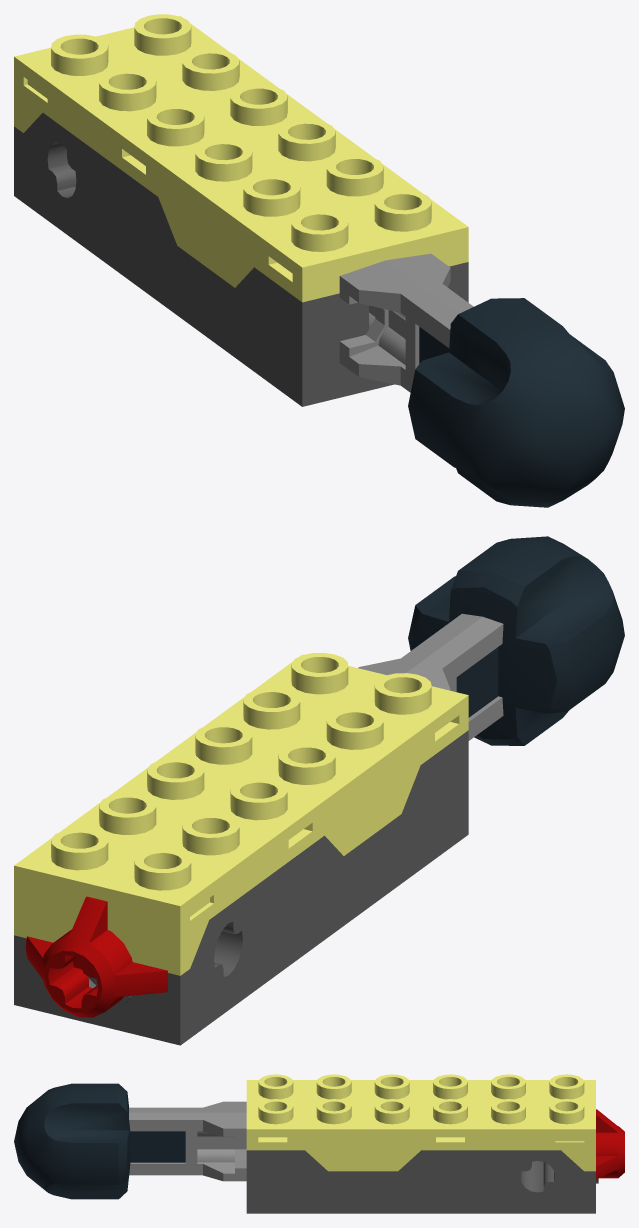
3 renders of one model, top to bottom at view 1: azimuth 30°, elevation 25°; view 2: azimuth 150°, elevation 25°; view 3: azimuth 270°, elevation 25°, orthographic. The views are drawn at different scales.
Visible parts, largest first — view 1: 46530.dat, 46537.dat, 46528.dat; view 2: 46530.dat, 46528.dat, 46537.dat, 46538.dat; view 3: 46530.dat, 46537.dat, 46528.dat, 46538.dat.
Part boxes in pixels (bbox=[...]): 46530.dat: bbox=[14, 14, 468, 302]; 46537.dat: bbox=[339, 253, 624, 507]; 46528.dat: bbox=[14, 113, 468, 406]; 46530.dat: bbox=[14, 652, 468, 975]; 46528.dat: bbox=[14, 730, 468, 1045]; 46537.dat: bbox=[358, 536, 624, 745]; 46538.dat: bbox=[25, 896, 167, 1017]; 46530.dat: bbox=[246, 1074, 595, 1171]; 46537.dat: bbox=[14, 1083, 246, 1199]; 46528.dat: bbox=[246, 1150, 598, 1213]; 46538.dat: bbox=[596, 1109, 624, 1178].
Size of the model in its own units: 0.016 by 0.016 by 0.084.
